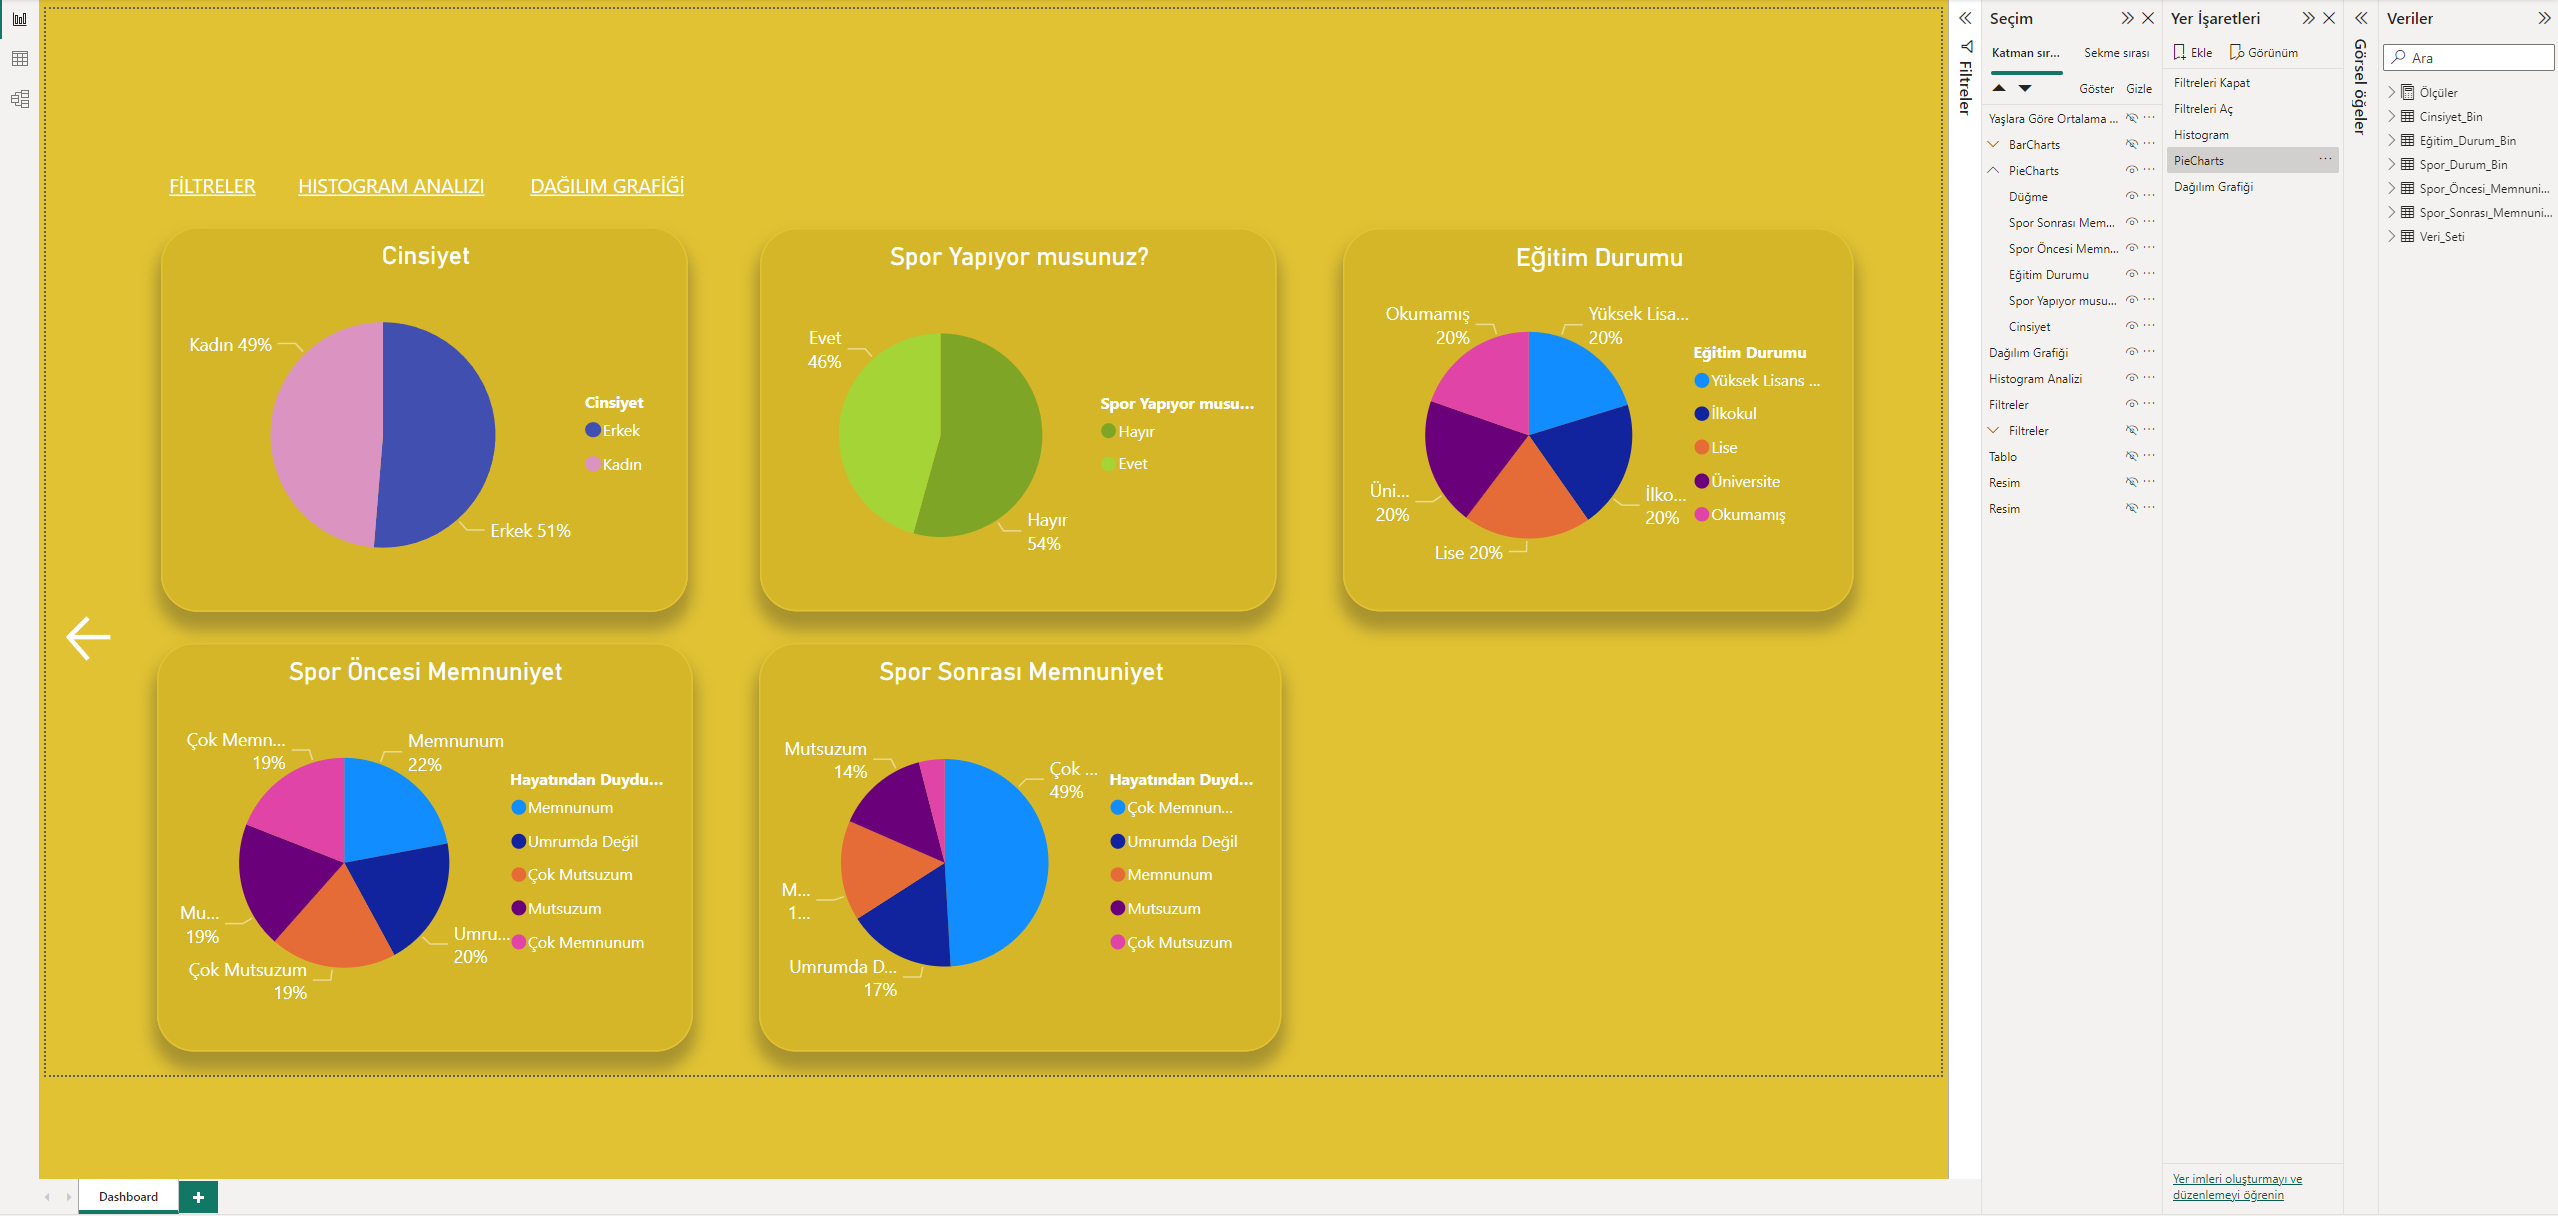

The page's visual inventory and layout, read from the dashboard file:
{"tool":"powerbi","page":{"name":"Dashboard","canvas":[1280,720],"ordinal":0},"visuals":[{"type":"image","box":[0,302.4,431.1,417.7],"z":0},{"type":"image","box":[917.9,0,362.1,435.2],"z":500},{"type":"tableEx","fields":{"Values":["Sum(Sayfa1.Cinsiyet)","Cinsiyet_Bin.Cinsiyet","Sum(Sayfa1.Eğitim  Durumu)","Eğitim_Durum_Bin.Eğitim Durumu","Sum(Sayfa1.Kaç Dakika)","Sum(Sayfa1.Spor Öncesi Menuniyet)","Spor_Öncesi_Memnuniyet_Bin.Hayatından Duyduğu Memnuniyet","Sum(Sayfa1.Spor Sonrası Memnuniyet)","Spor_Sonrası_Memnuniyet_Bin.Hayatından Duyduğu Memnuniyet","Sum(Sayfa1.Spor Yapmak)","Spor_Durum_Bin.Spor Yapıyor musunuz?","Sum(Sayfa1.Yaş)"]},"box":[58.8,134.3,1160.9,572.8],"z":1000},{"type":"actionButton","title":"Filtreler","box":[74.8,103.1,74.8,31.2],"z":3000},{"type":"actionButton","title":"Histogram Analizi","box":[164.1,103.1,138.7,31.2],"z":4000},{"type":"actionButton","title":"Dağılım Grafiği","box":[310,103.1,138.7,31.2],"z":5000}]}

Visuals, with their boxes on the page's 1280x720 design canvas (x1, y1, x2, y2). These are canvas units, not pixel positions in the 2558x1216 screenshot, which may show the page scaled, cropped or inside an application window:
image: box=[0, 302, 431, 720]
image: box=[918, 0, 1280, 435]
tableEx - Sum(Sayfa1.Cinsiyet) x Cinsiyet_Bin.Cinsiyet: box=[59, 134, 1220, 707]
"Filtreler" actionButton: box=[75, 103, 150, 134]
"Histogram Analizi" actionButton: box=[164, 103, 303, 134]
"Dağılım Grafiği" actionButton: box=[310, 103, 449, 134]
